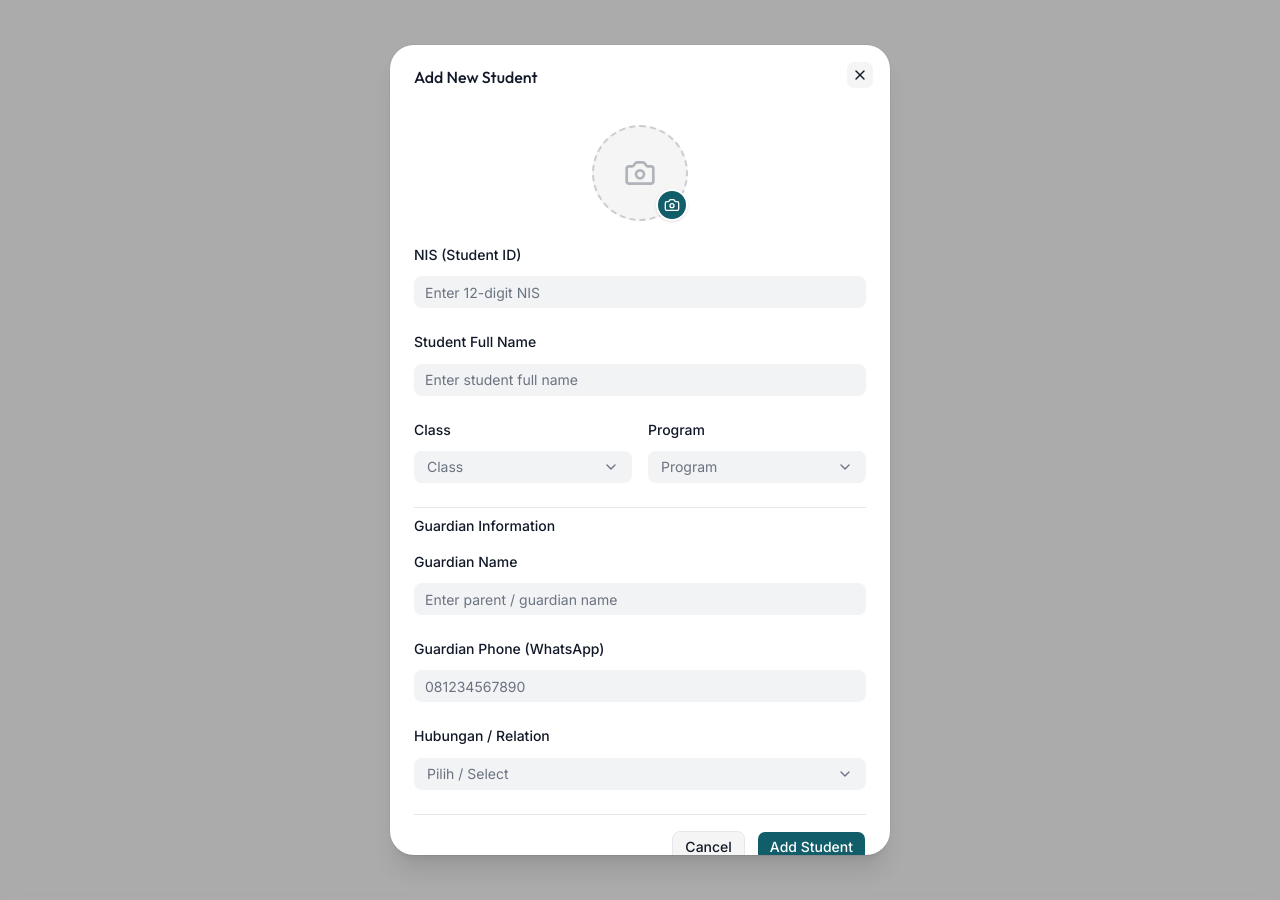
Test case: SantriFormDialog Component › should display validation error when submitting empty form
Click the button "Add Student". click: [811, 846]
box: x1=757 y1=830 x2=866 y2=862
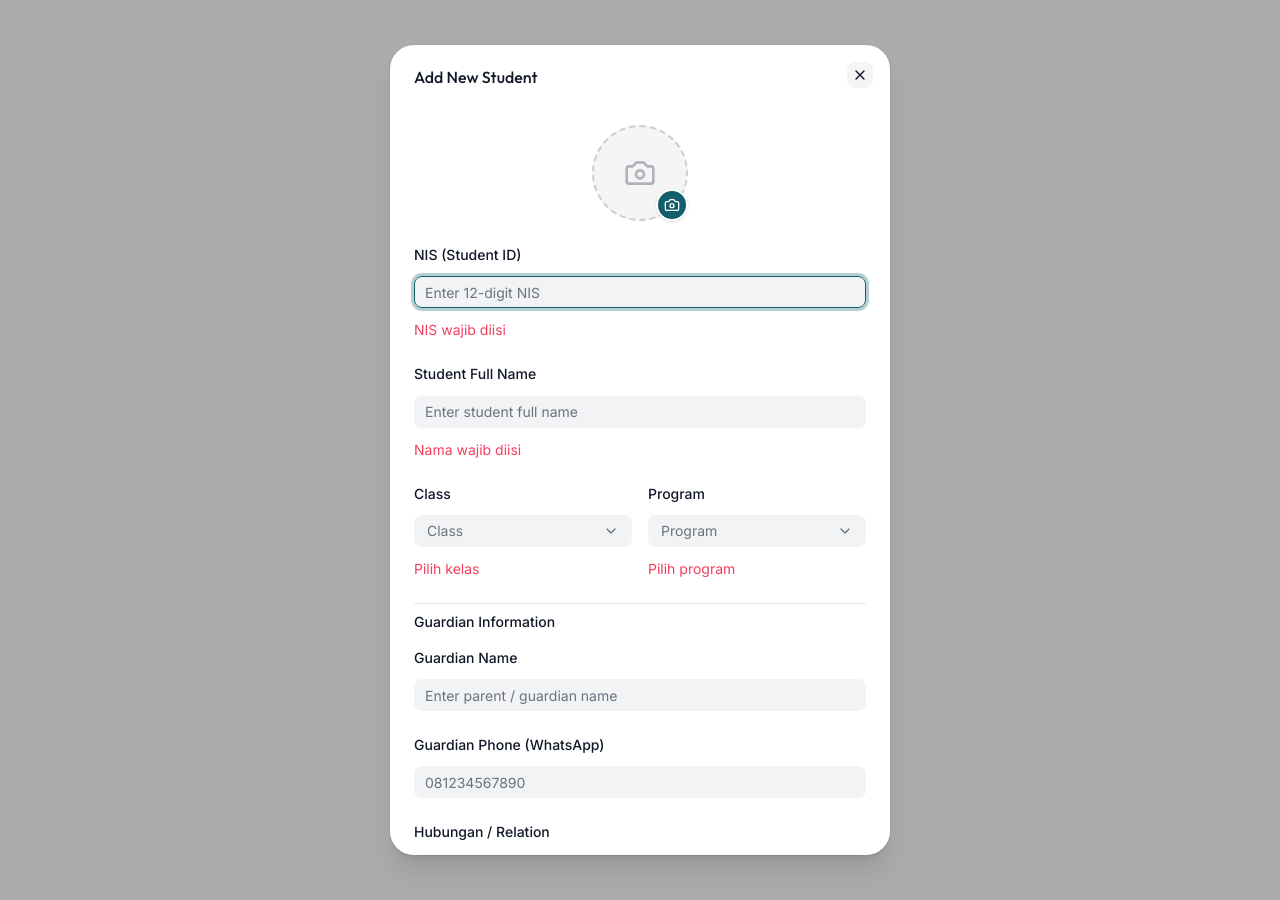
Expected: the text "NIS wajib diisi" is shown, x1=414 y1=321 x2=506 y2=338
Expected: the text "Nama wajib diisi" is shown, x1=414 y1=440 x2=521 y2=458
